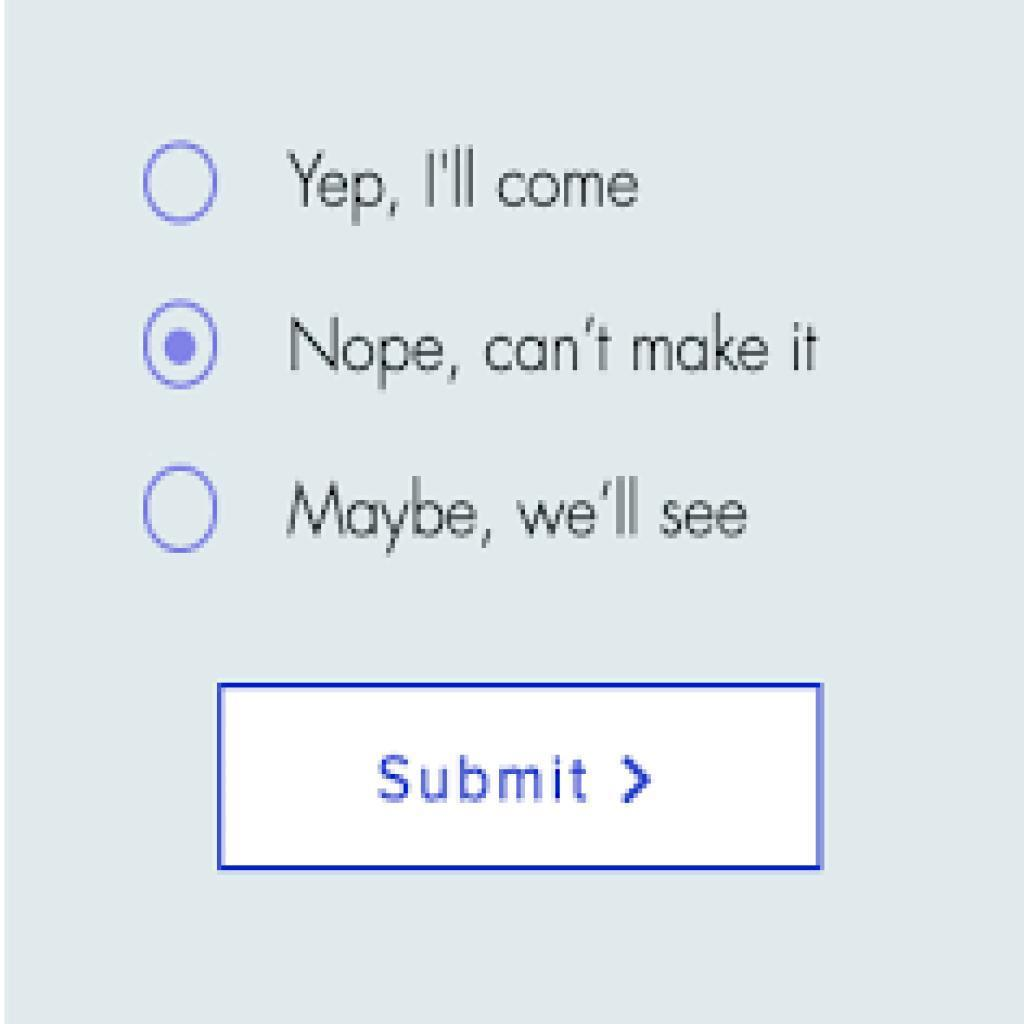button: (218, 685, 821, 875)
label: (278, 302, 825, 389), (282, 469, 749, 552), (274, 139, 650, 221)
radio: (139, 299, 219, 393), (143, 463, 221, 556), (141, 141, 224, 227)
